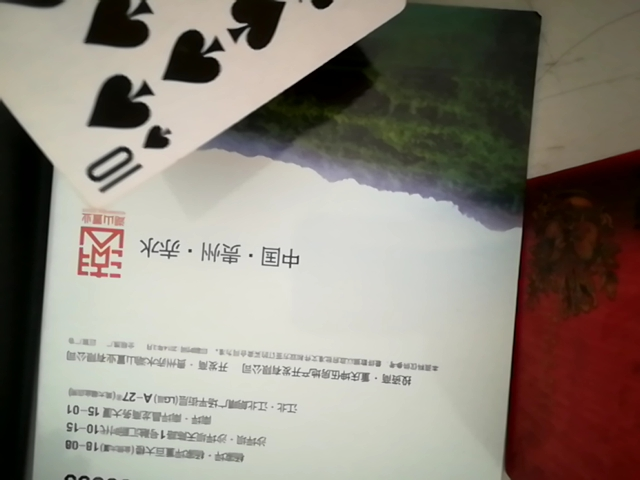ht 10: (2, 0, 431, 209)
